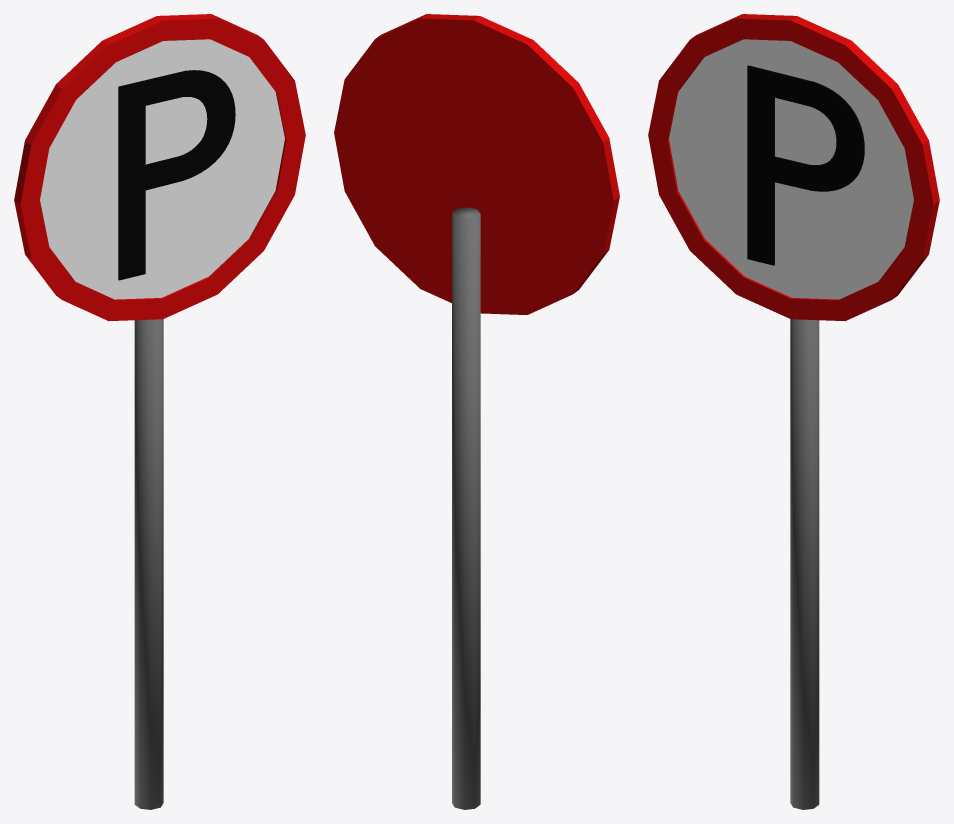
Rendered from Prop_StreetSign_Parking.fbx.
3 views of the same model, side by side, from view 1: azimuth 30°, elevation 25°; view 2: azimuth 150°, elevation 25°; view 3: azimuth 330°, elevation 25° (orthographic). The views are drawn at different scales.
Parts seen in each view (by area): view 1: Prop_StreetSign_Parking; view 2: Prop_StreetSign_Parking; view 3: Prop_StreetSign_Parking.
Boxes of the visible parts, x1,y1,x2,y2 form: Prop_StreetSign_Parking: (14,14,305,809); Prop_StreetSign_Parking: (334,14,619,809); Prop_StreetSign_Parking: (648,14,939,809).
Bounding box in the file's own units: 164 × 435 × 20.67.
